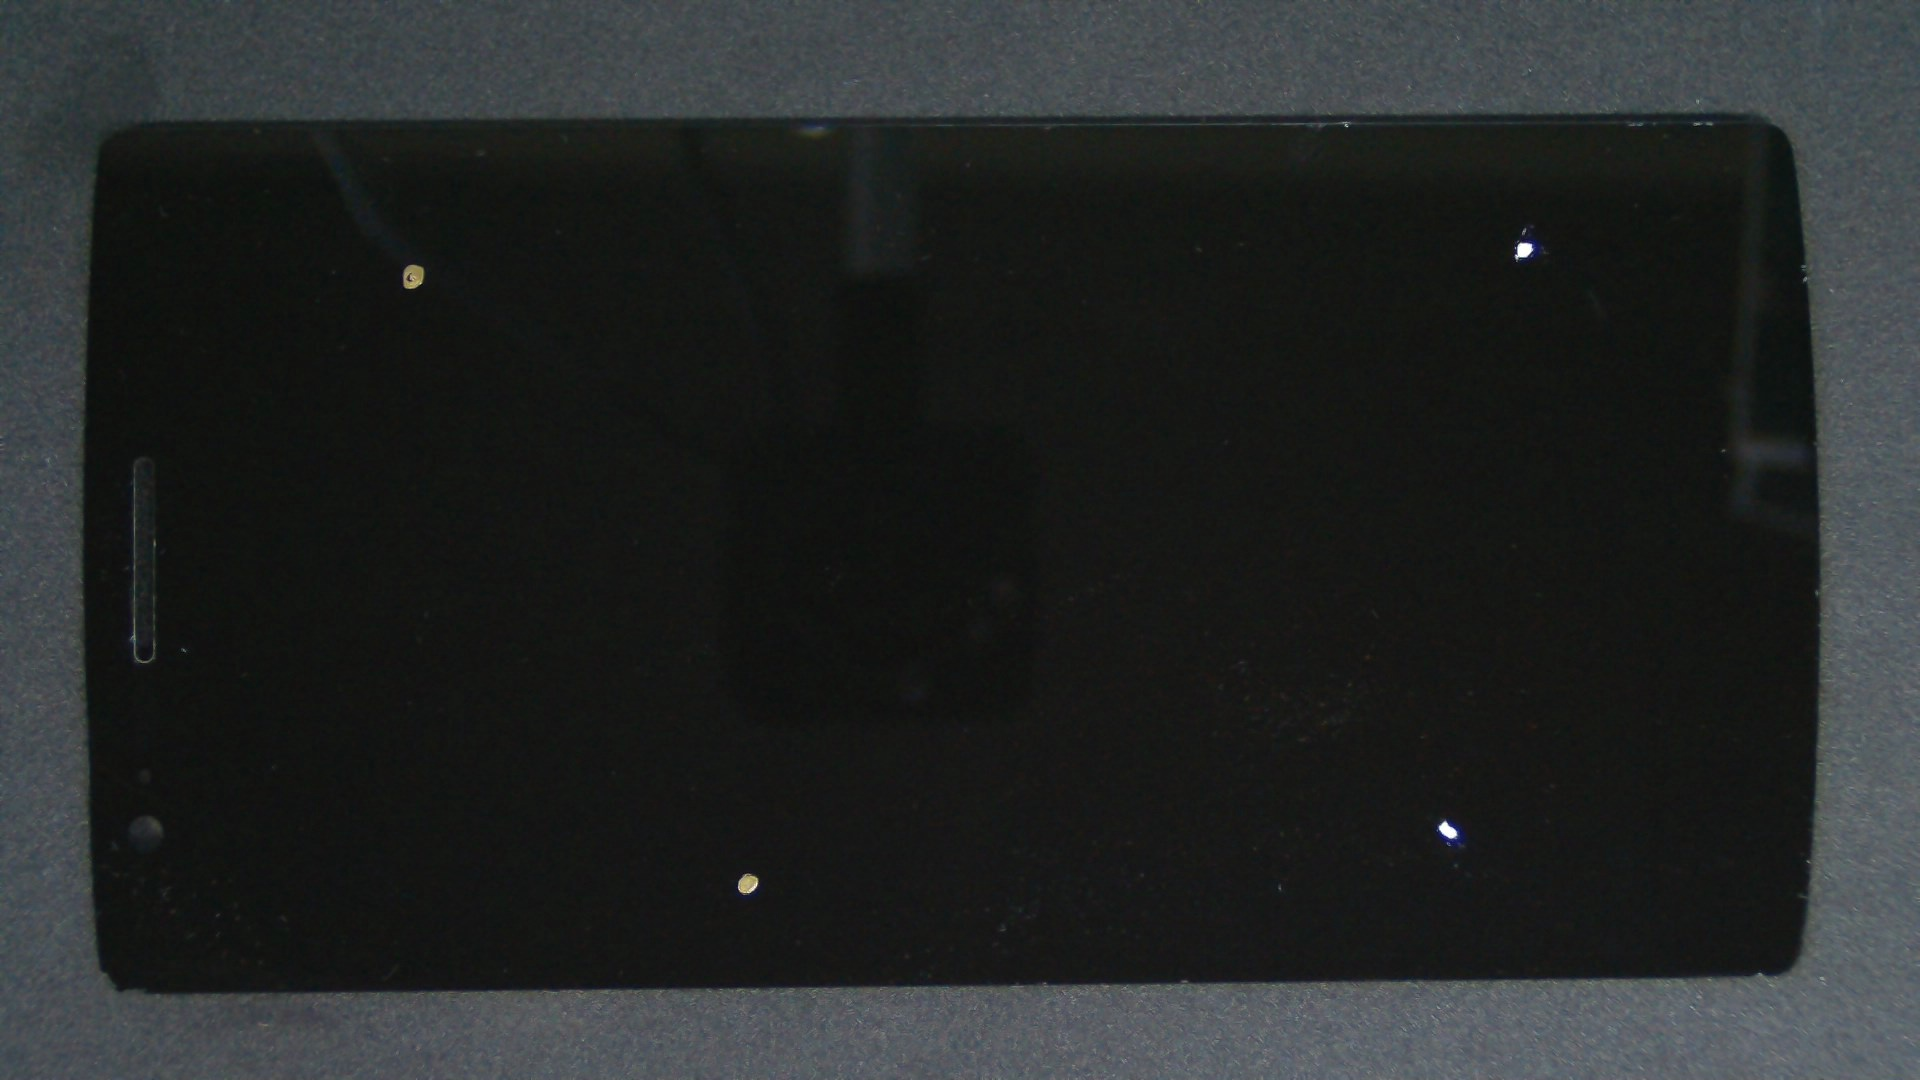oil: (724, 407, 1920, 1080), (724, 419, 1920, 1080), (375, 435, 1124, 1080), (760, 119, 1920, 359), (764, 112, 1920, 340), (203, 132, 608, 397)
